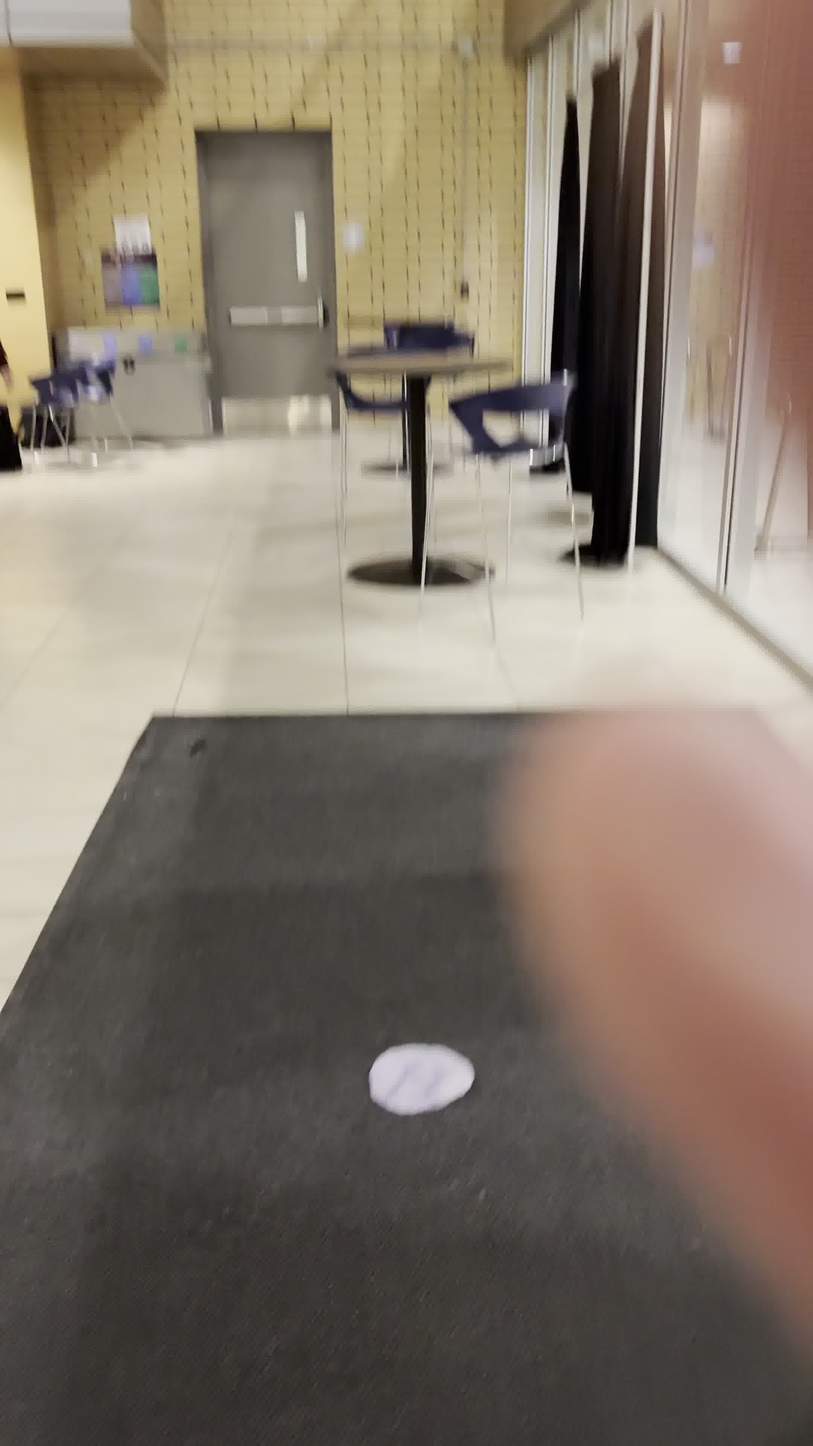Target: (362, 1041, 480, 1118)
